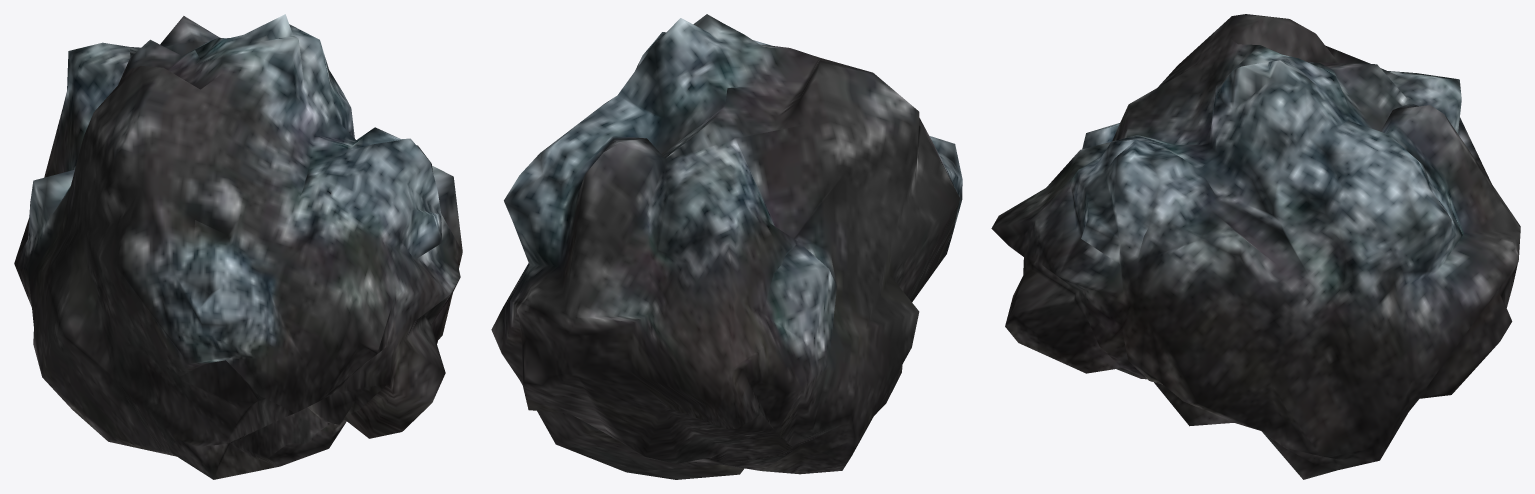
File: SM_RockQuartz_2df2f8.glb
3 renders of one model, left to right at view 1: azimuth 30°, elevation 25°; view 2: azimuth 150°, elevation 25°; view 3: azimuth 270°, elevation 25°, orthographic. The views are drawn at different scales.
Size of the model in its own units: 1.51 by 1.82 by 2.13.
1 material, 1 textured.
